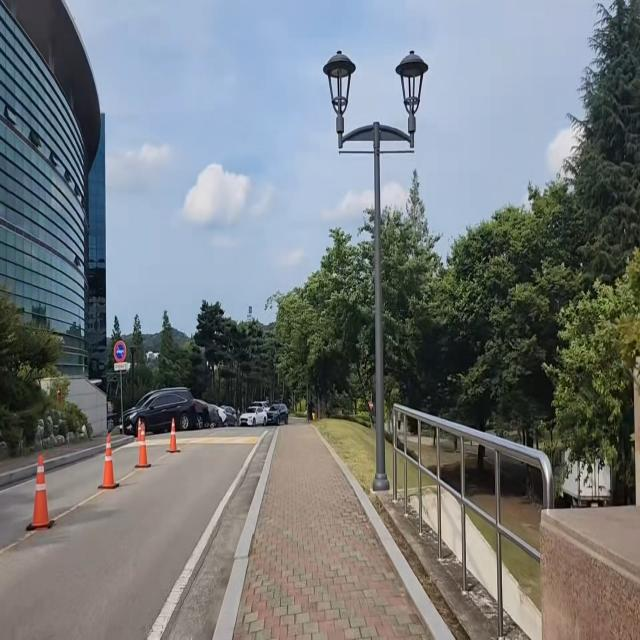obstacle: (325, 41, 432, 493), (23, 450, 61, 536), (91, 430, 122, 493), (134, 418, 153, 473)
road: (0, 431, 274, 640)
sidewalk: (219, 421, 451, 640)
